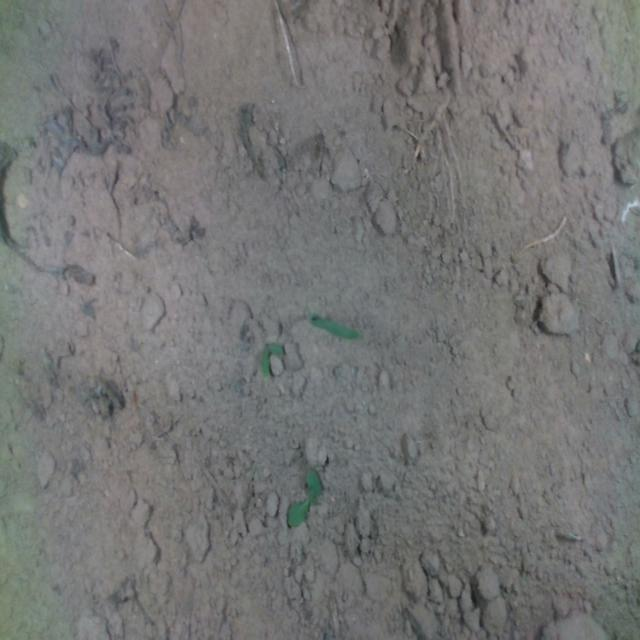weed: (284, 467, 324, 529)
